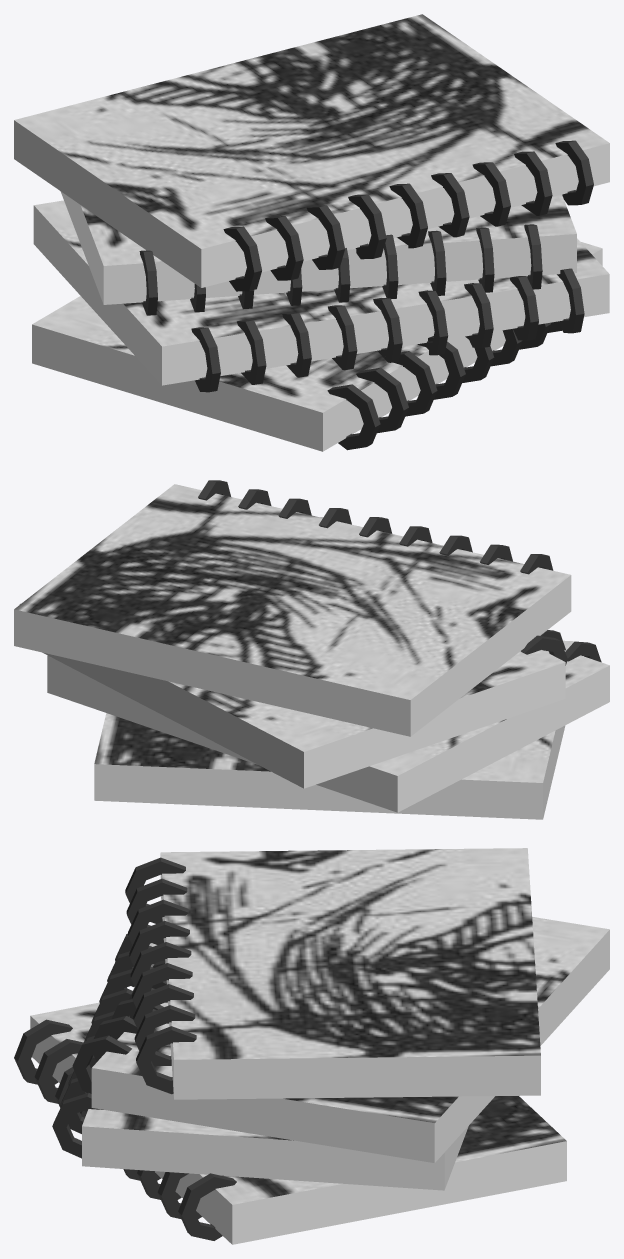
The model's file is Notes.fbx.
3 renders of one model, top to bottom at view 1: azimuth 30°, elevation 25°; view 2: azimuth 150°, elevation 25°; view 3: azimuth 270°, elevation 25°, orthographic. The views are drawn at different scales.
Parts seen in each view (by area): view 1: Cube.076; view 2: Cube.076; view 3: Cube.076.
Part boxes in pixels (x1,y1,x2,y2): Cube.076: (14, 14, 609, 451); Cube.076: (14, 480, 609, 819); Cube.076: (14, 848, 609, 1244).
Bounding box in the file's own units: 29.54 × 10.48 × 28.48.
3 materials, 1 textured.
